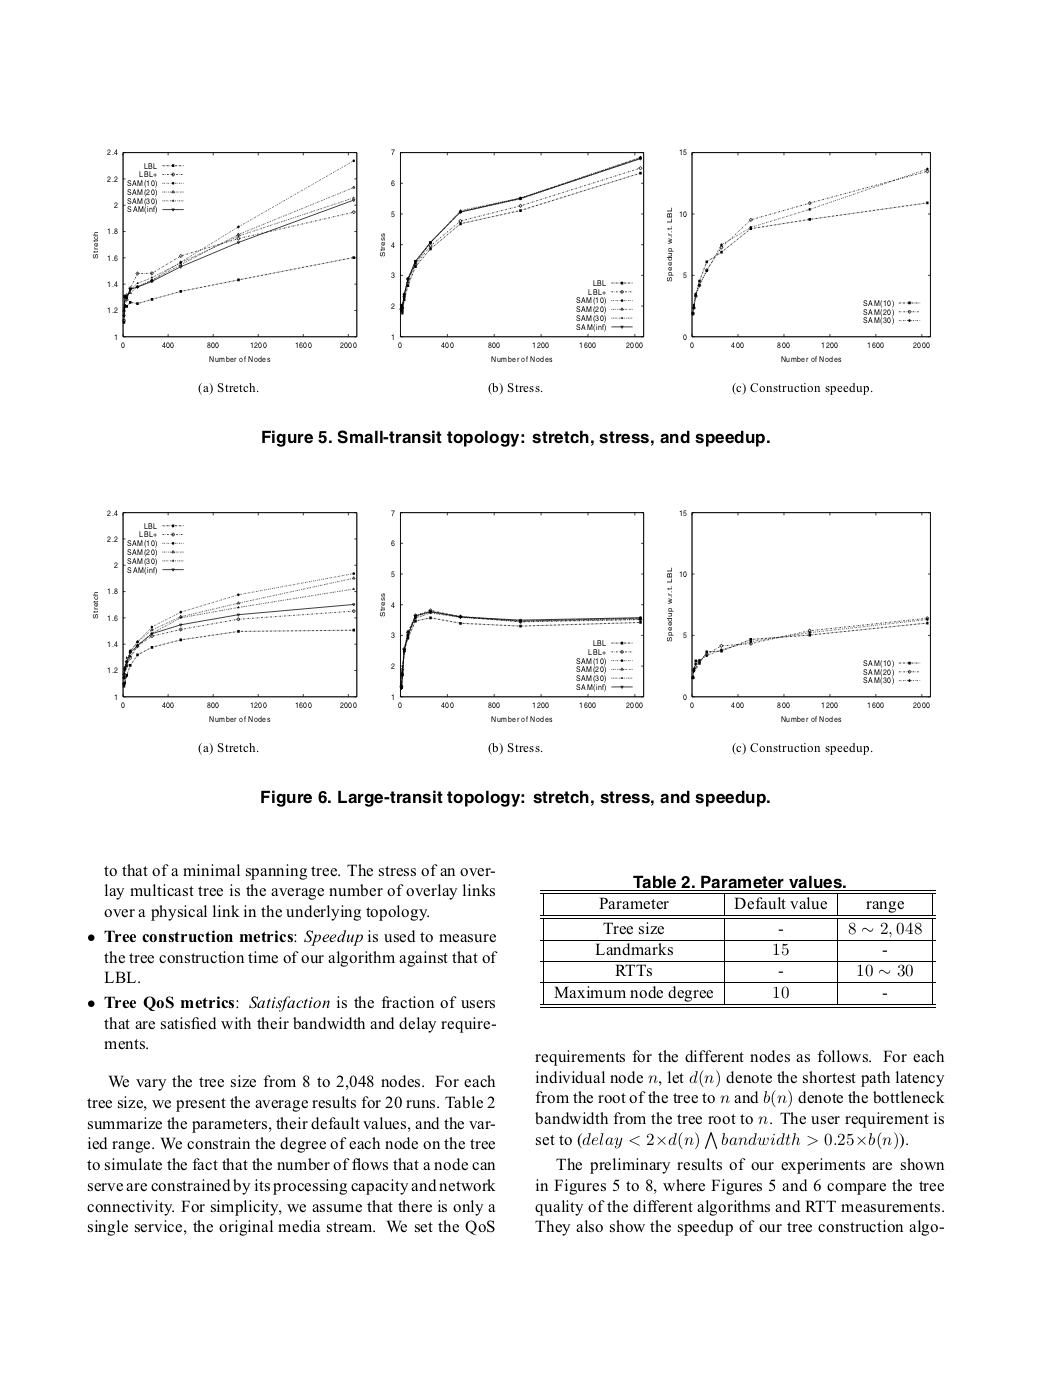Table: (541, 874, 935, 1007)
figure: (379, 149, 644, 361), (93, 149, 357, 361), (379, 510, 644, 721), (666, 149, 929, 361), (93, 510, 357, 721), (666, 510, 929, 721)
